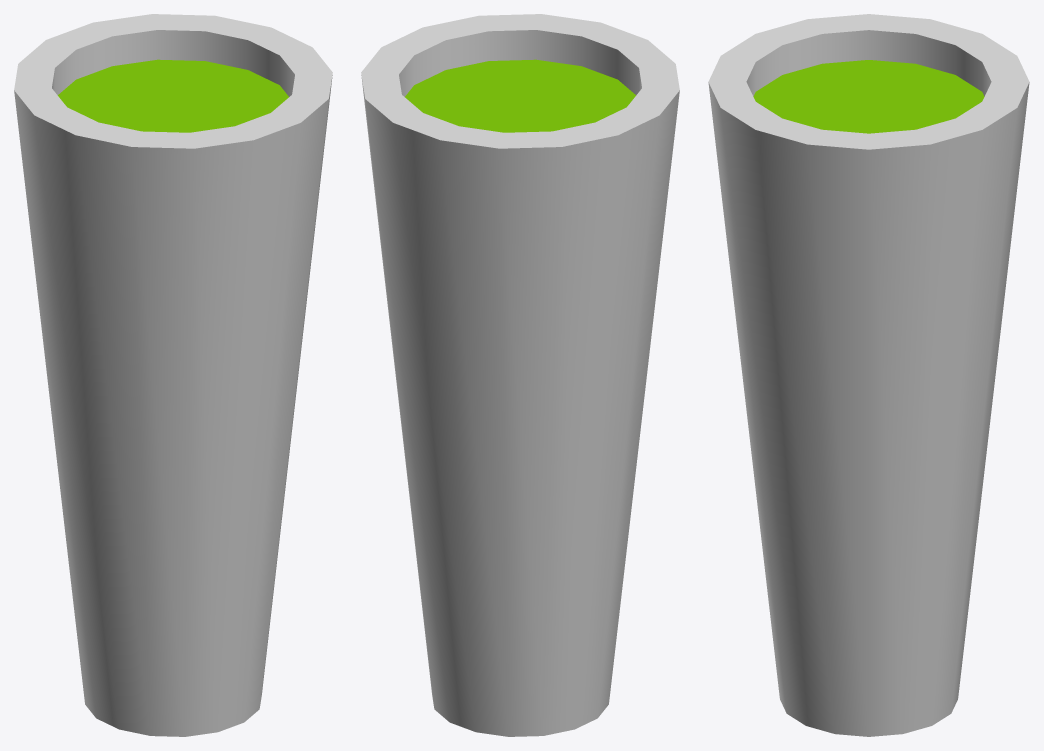
The model's file is Nature_Deco_2_Small.obj.
The picture shows the model from 3 angles, left to right: view 1: azimuth 30°, elevation 25°; view 2: azimuth 150°, elevation 25°; view 3: azimuth 270°, elevation 25°; orthographic projection.
Parts seen in each view (by area): view 1: Nature_Deco_2_Small; view 2: Nature_Deco_2_Small; view 3: Nature_Deco_2_Small.
Part boxes in pixels (box(x1,y1,x2,y2)): Nature_Deco_2_Small: box(14, 14, 332, 736); Nature_Deco_2_Small: box(361, 14, 679, 736); Nature_Deco_2_Small: box(708, 14, 1029, 736).
Size of the model in its own units: 0.27 by 0.5727 by 0.27.
